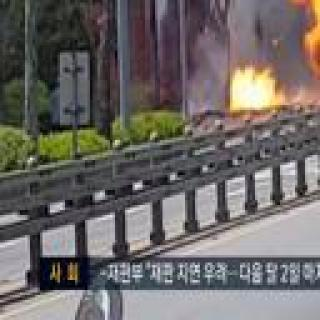fire: (288, 0, 320, 97), (227, 71, 275, 110)
